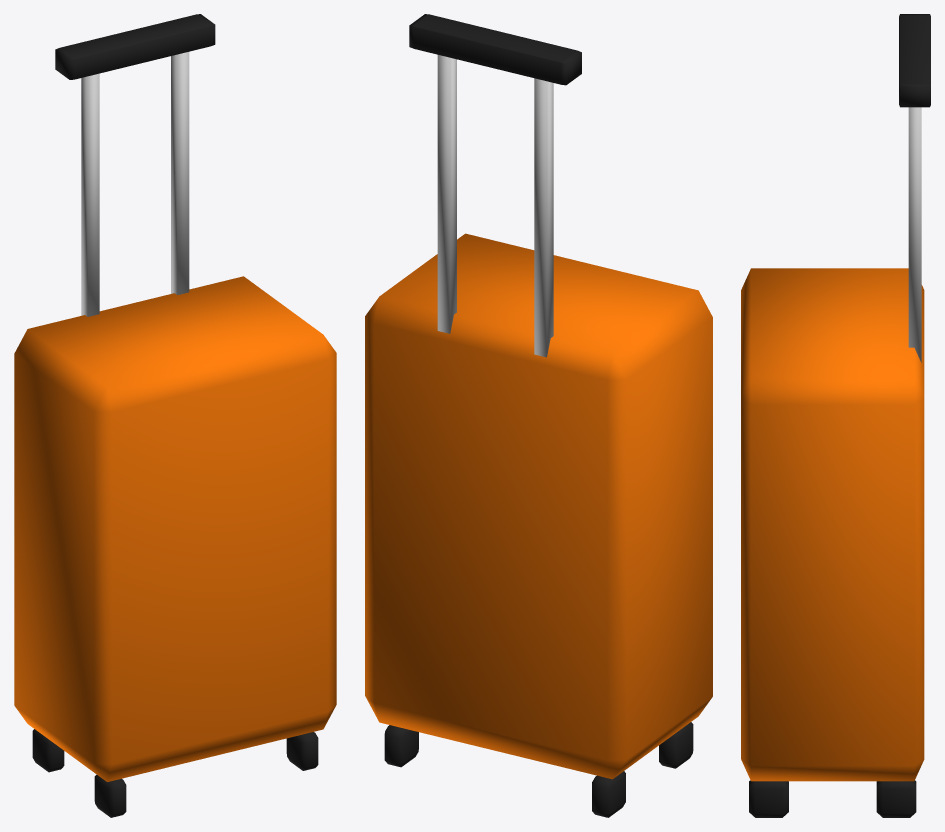
The model's file is suitcase2.glb.
3 renders of one model, left to right at view 1: azimuth 30°, elevation 25°; view 2: azimuth 150°, elevation 25°; view 3: azimuth 270°, elevation 25°, orthographic. The views are drawn at different scales.
Visible parts, largest first — view 1: Cube, Handle Rod, Handle, Wheel; view 2: Cube, Handle Rod, Handle, Wheel; view 3: Cube, Handle Rod, Handle, Wheel.
Part boxes in pixels (x1=…): Cube: x1=14, y1=276, x2=336, y2=781; Handle Rod: x1=81, y1=52, x2=189, y2=316; Handle: x1=55, y1=14, x2=215, y2=79; Wheel: x1=32, y1=729, x2=318, y2=817; Cube: x1=365, y1=233, x2=712, y2=779; Handle Rod: x1=437, y1=55, x2=553, y2=357; Handle: x1=409, y1=14, x2=581, y2=85; Wheel: x1=384, y1=722, x2=693, y2=817; Cube: x1=741, y1=268, x2=924, y2=781; Handle Rod: x1=908, y1=107, x2=921, y2=362; Handle: x1=899, y1=14, x2=930, y2=107; Wheel: x1=749, y1=780, x2=916, y2=817.
Size of the model in its own units: 0.36 by 0.9922 by 0.2382.
1 material, 1 textured.
